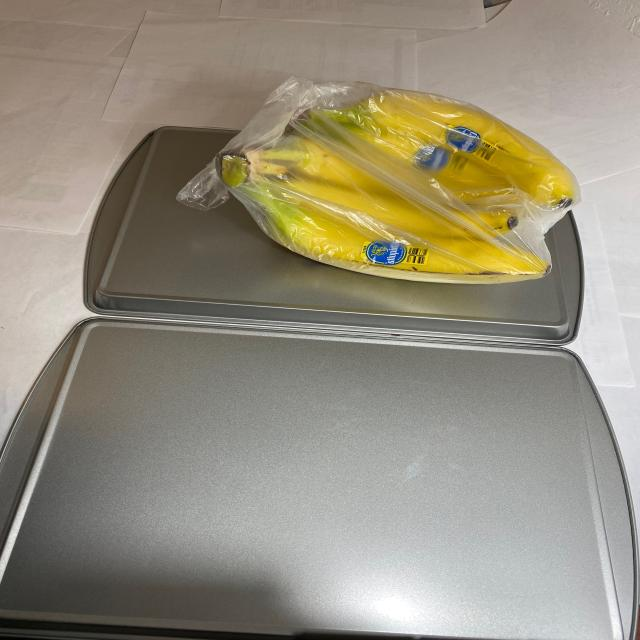banana: (199, 74, 576, 293)
